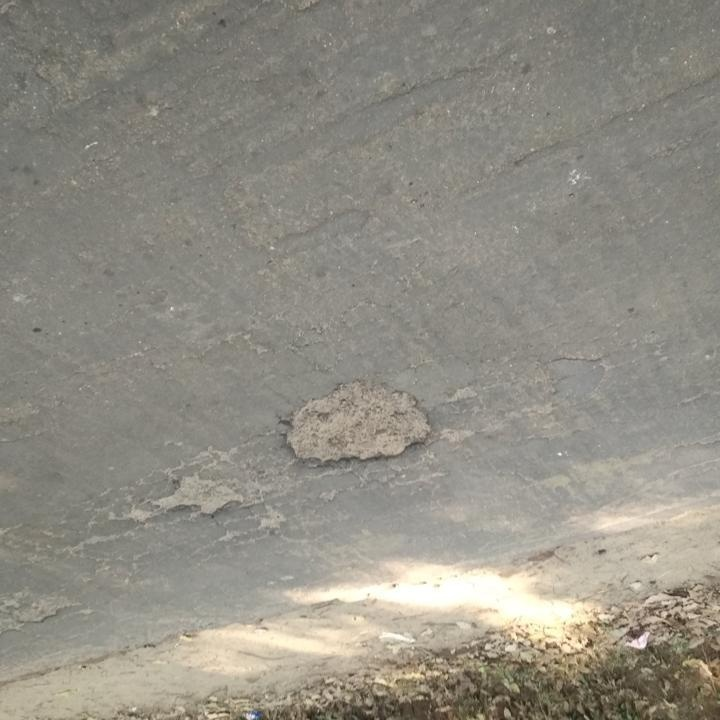pothole: (280, 377, 437, 472), (150, 471, 248, 520)
